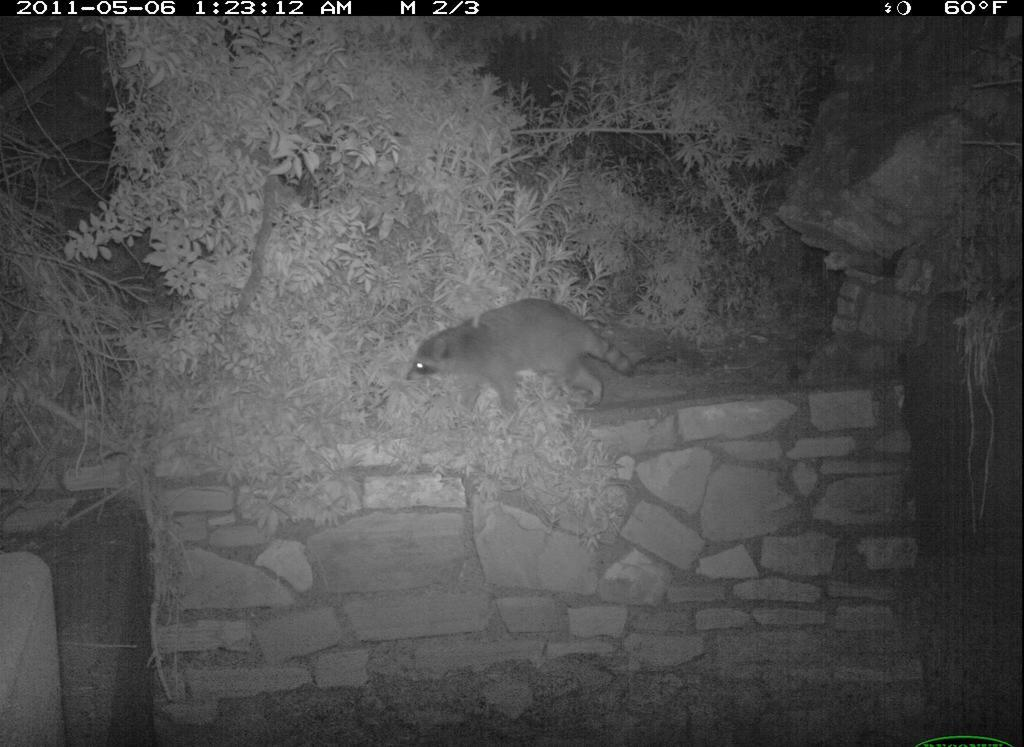raccoon: (402, 301, 638, 411)
